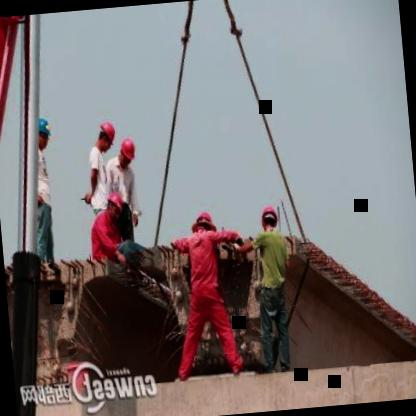helmet: (28, 112, 57, 154), (92, 117, 119, 154), (257, 199, 280, 240), (116, 136, 139, 171), (192, 207, 216, 238), (104, 190, 125, 218)
